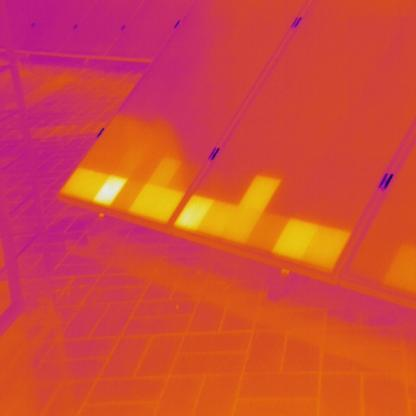hotspot: (274, 214, 354, 274), (197, 196, 257, 244), (132, 182, 184, 220), (240, 174, 285, 210), (175, 192, 214, 230), (61, 165, 103, 197), (144, 155, 184, 185), (96, 174, 128, 207)
